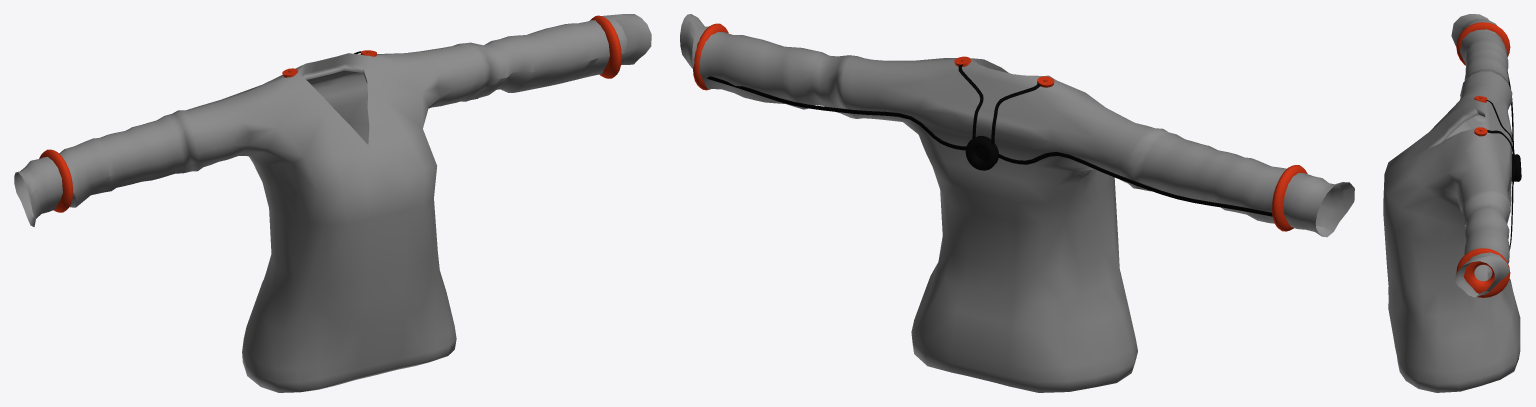
Rendered from Top_FemaleFitA_Scrubs.obj.
3 views of the same model, side by side, from view 1: azimuth 30°, elevation 25°; view 2: azimuth 150°, elevation 25°; view 3: azimuth 270°, elevation 25° (orthographic). The views are drawn at different scales.
Visible parts, largest first — view 1: Mesh, Gyro; view 2: Mesh, Audio Device, Gyro, Wiring; view 3: Mesh, Gyro, Audio Device, Wiring, Speakers.
Part boxes in pixels (x1=…): Mesh: x1=14, y1=14, x2=651, y2=392; Gyro: x1=39, y1=15, x2=621, y2=212; Mesh: x1=680, y1=14, x2=1354, y2=392; Audio Device: x1=706, y1=76, x2=1272, y2=216; Gyro: x1=693, y1=23, x2=1307, y2=231; Wiring: x1=958, y1=64, x2=1040, y2=144; Mesh: x1=1383, y1=14, x2=1520, y2=392; Gyro: x1=1456, y1=22, x2=1510, y2=297; Audio Device: x1=1507, y1=71, x2=1521, y2=250; Wiring: x1=1486, y1=100, x2=1514, y2=163; Speakers: x1=1474, y1=96, x2=1487, y2=136.
Bounding box in the file's own units: 143 × 62.68 × 32.56.
